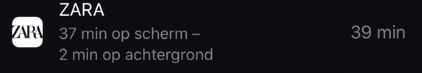name: (53, 1, 122, 22)
time: (55, 22, 110, 44), (55, 45, 100, 69)
